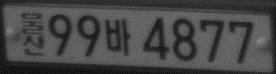4: (142, 17, 169, 59)
7: (228, 20, 254, 64), (199, 18, 224, 62)
8: (172, 18, 197, 61)
9: (47, 13, 72, 55), (76, 14, 100, 56)
바: (104, 17, 130, 56)
울산_V: (20, 12, 45, 56)
